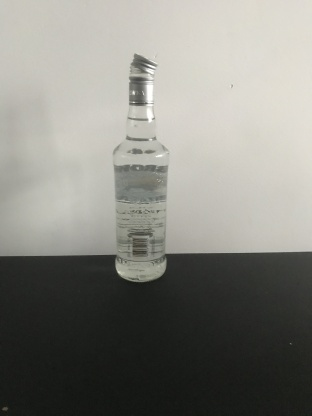nakretka: (127, 51, 158, 106)
